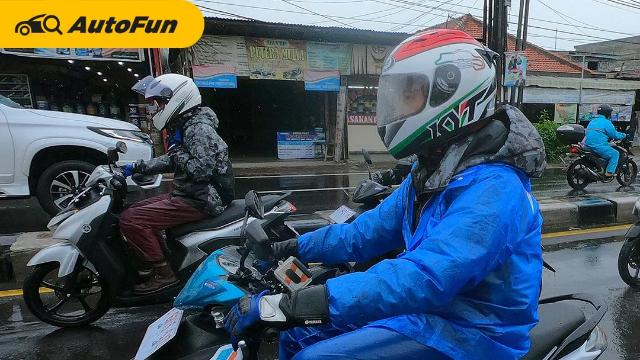helm: (378, 30, 504, 159), (130, 72, 204, 133), (598, 104, 615, 122)
motor: (134, 187, 613, 360), (24, 142, 301, 333)
